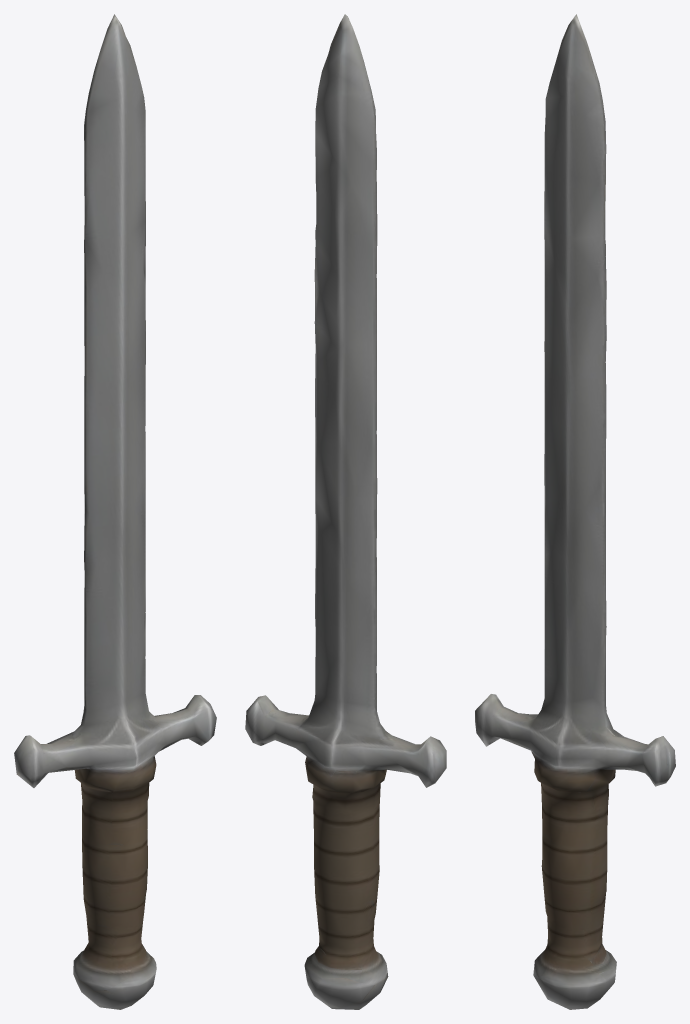
Rendered from 1258_sword.glb.
The picture shows the model from 3 angles, left to right: view 1: azimuth 30°, elevation 25°; view 2: azimuth 150°, elevation 25°; view 3: azimuth 330°, elevation 25°; orthographic projection.
Visible parts, largest first — view 1: Model; view 2: Model; view 3: Model.
Boxes of the visible parts, box(x1,y1,x2,y2) form: Model: box(14, 14, 216, 1009); Model: box(245, 14, 446, 1009); Model: box(475, 14, 675, 1009).
Bounding box in the file's own units: 0.2056 × 1 × 0.0768.
1 material, 1 textured.
